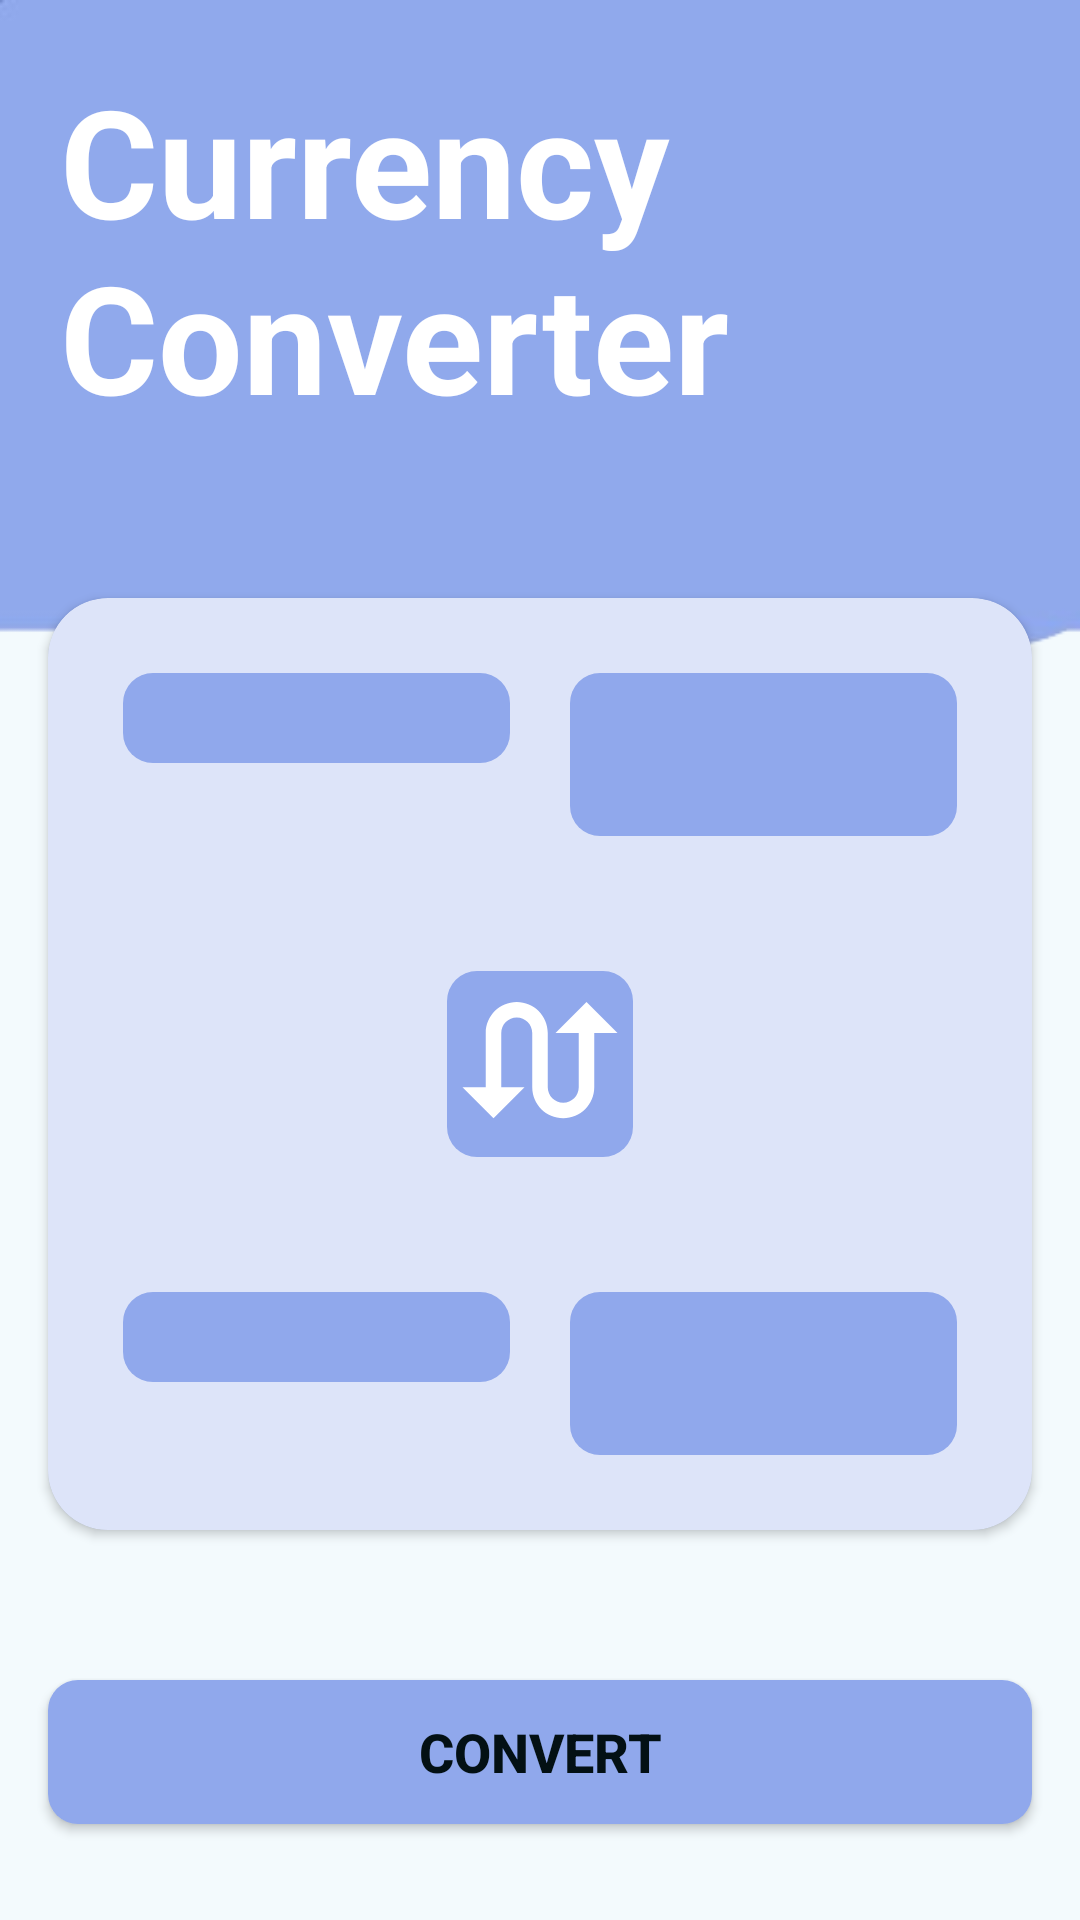

Screen size 1080 x 1920. Icon name, then its box in pixels as bbox=(x1, y1, x2, y2):
swap calls: bbox=(447, 971, 633, 1157)
